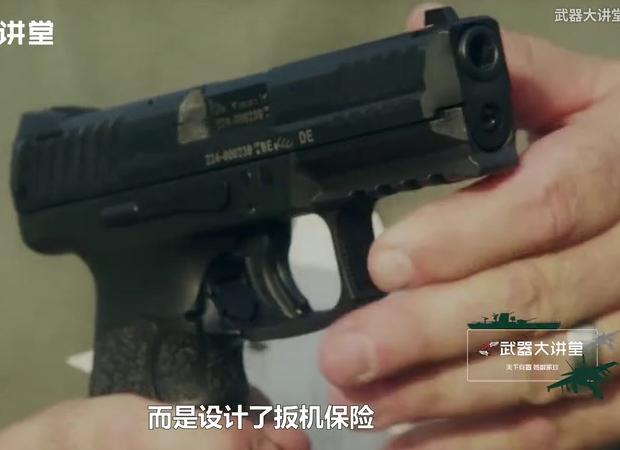gun: (1, 1, 620, 450)
